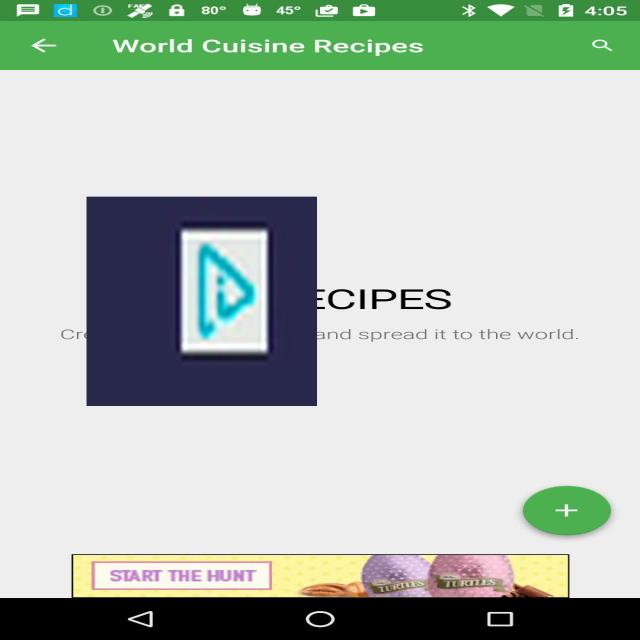sneaking: (87, 197, 317, 406)
